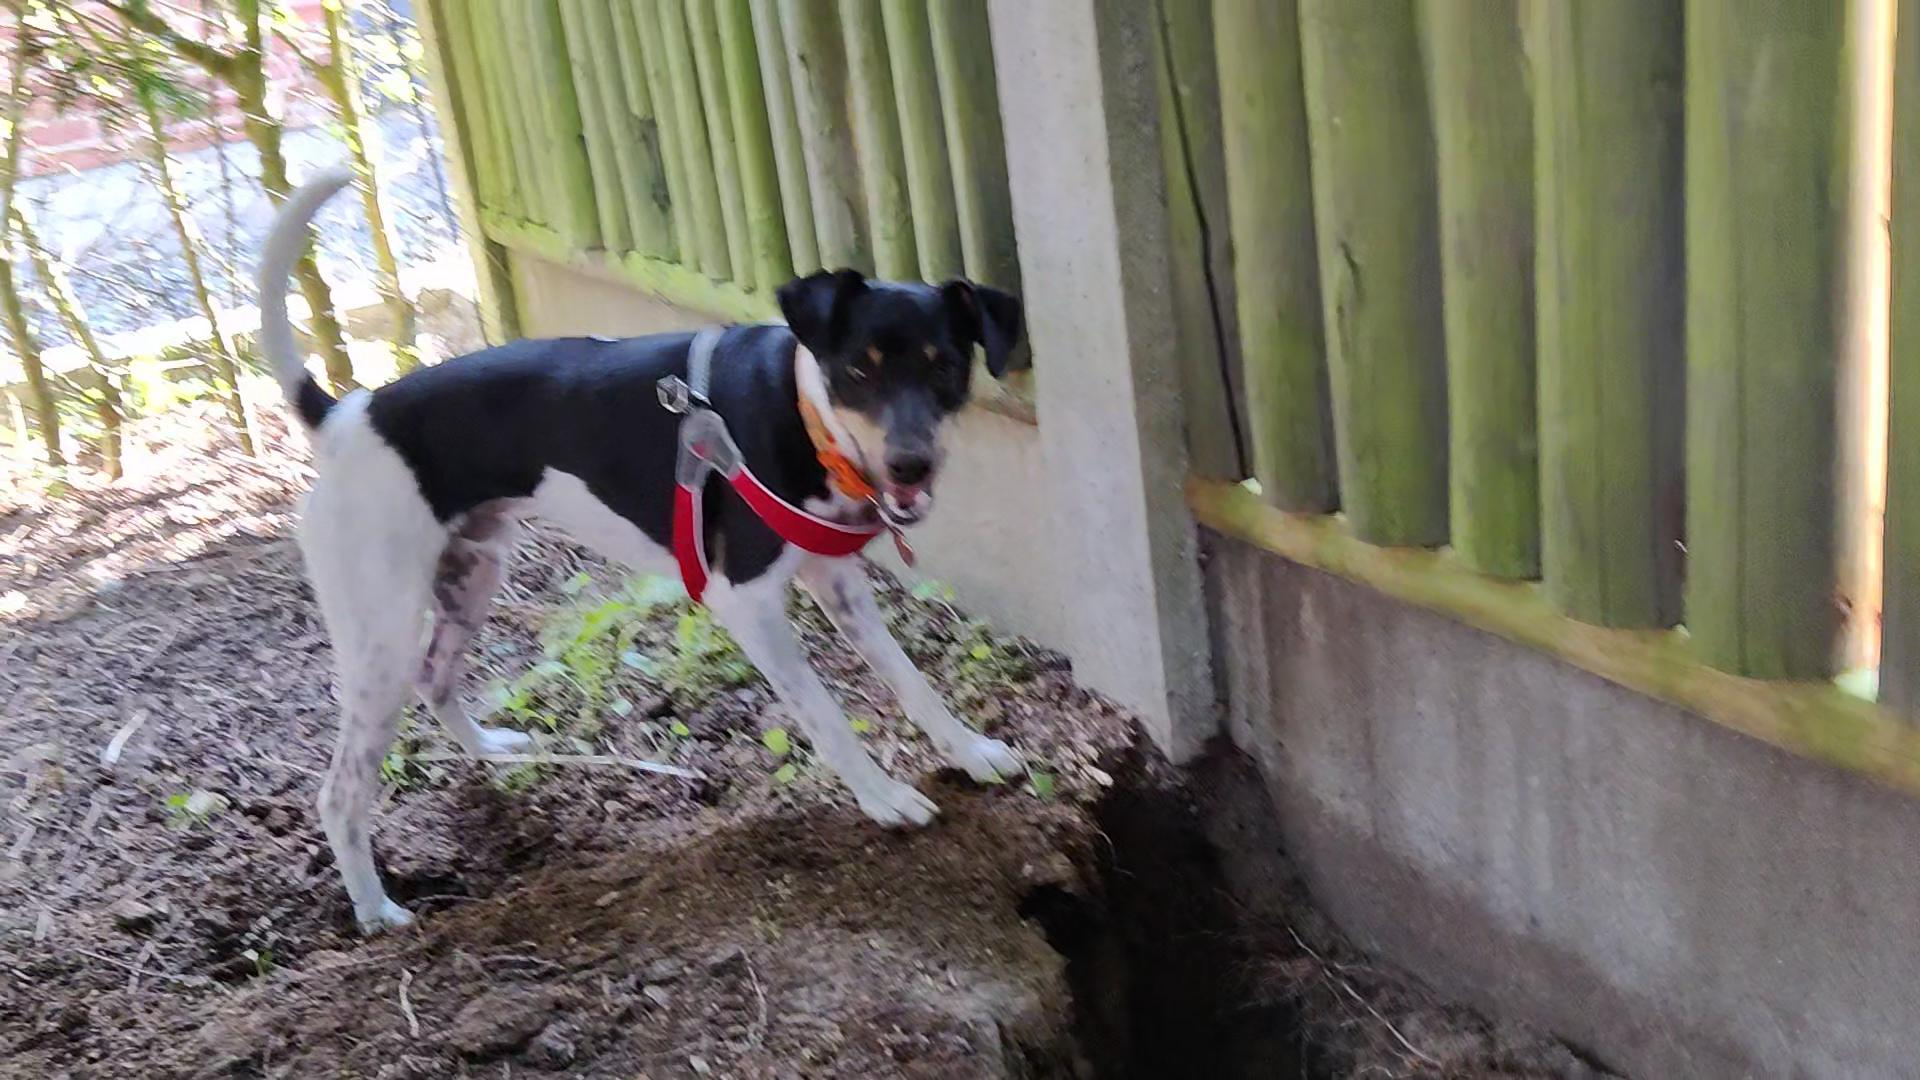Dog: (232, 140, 1067, 947)
